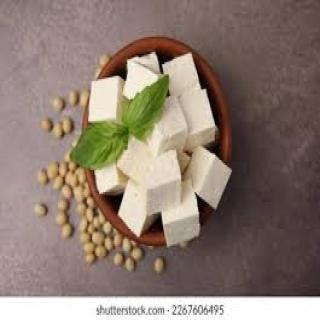Tahu: (63, 42, 245, 248)
